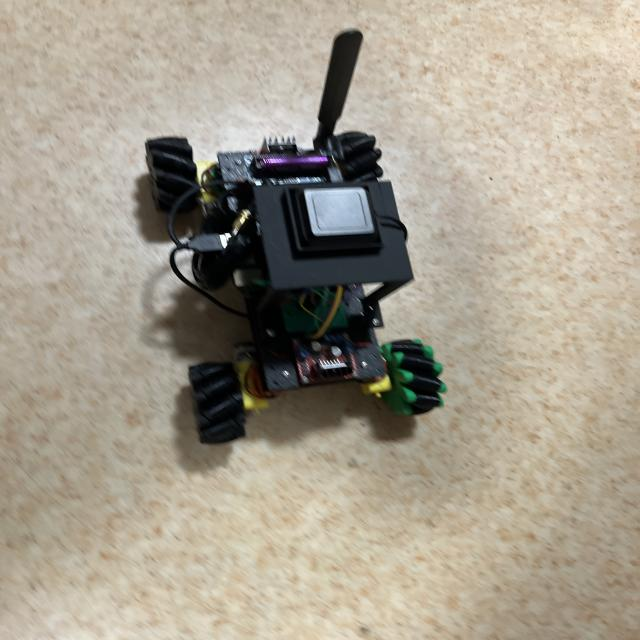robot: (146, 30, 446, 443)
